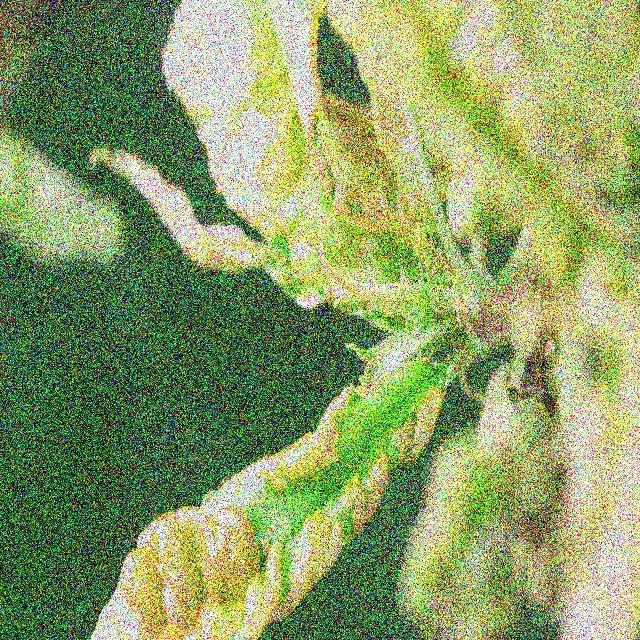leaf_curl: (88, 390, 398, 640), (51, 27, 361, 276)
